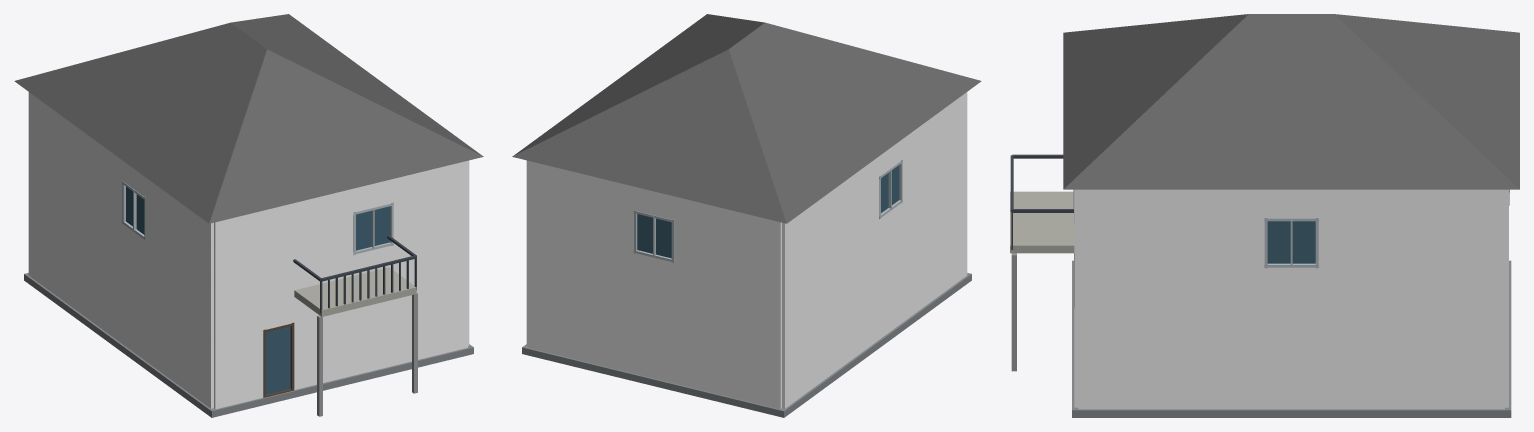
The model's file is four-facades-house.glb.
3 views of the same model, side by side, from view 1: azimuth 30°, elevation 25°; view 2: azimuth 150°, elevation 25°; view 3: azimuth 270°, elevation 25° (orthographic). The views are drawn at different scales.
Parts seen in each view (by area): view 1: roof, left wall, left wall.005, front wall.019, left wall.001, foundation, front wall.010, front wall.020, front wall.001, front wall.021, balcony floor, front wall.002 (+22 smaller); view 2: roof, back wall.005, back wall, left wall, left wall.005, back wall.003, back wall.006, back wall.001, left wall.001, foundation, back wall.007, left wall.003 (+8 smaller); view 3: roof, right wall, right wall.005, right wall.001, right wall.006, right wall.003, right wall.002, right wall.007, foundation, balcony floor, right window glass, right wall.004 (+2 smaller).
Boxes of the visible parts, x1,y1,x2,y2 form: roof: (14, 14, 483, 223); left wall: (28, 153, 123, 344); left wall.005: (145, 239, 213, 408); front wall.019: (392, 281, 467, 365); left wall.001: (28, 114, 122, 221); foundation: (24, 273, 473, 417); front wall.010: (294, 309, 354, 389); front wall.020: (392, 225, 467, 299); front wall.001: (214, 332, 263, 409); front wall.021: (393, 186, 467, 242); balcony floor: (294, 267, 416, 316); front wall.002: (214, 275, 264, 343); roof: (512, 14, 981, 223); back wall.005: (673, 261, 781, 409); back wall: (528, 225, 635, 373); left wall: (782, 218, 879, 408); left wall.005: (901, 153, 967, 322); back wall.003: (635, 253, 672, 382); back wall.006: (674, 221, 781, 286); back wall.001: (528, 186, 633, 251); left wall.001: (782, 178, 879, 286); foundation: (522, 273, 971, 417); back wall.007: (673, 196, 781, 247); left wall.003: (879, 203, 901, 339); roof: (1063, 14, 1519, 189); right wall: (1078, 266, 1265, 409); right wall.005: (1317, 266, 1504, 409); right wall.001: (1078, 219, 1264, 265); right wall.006: (1318, 219, 1504, 265); right wall.003: (1266, 267, 1317, 409); right wall.002: (1078, 189, 1265, 219); right wall.007: (1317, 189, 1504, 219); foundation: (1072, 260, 1511, 417); balcony floor: (1010, 191, 1074, 253); right window glass: (1267, 221, 1315, 263); right wall.004: (1266, 189, 1317, 218).
Size of the model in its own units: 8.7 by 8.51 by 11.95.
